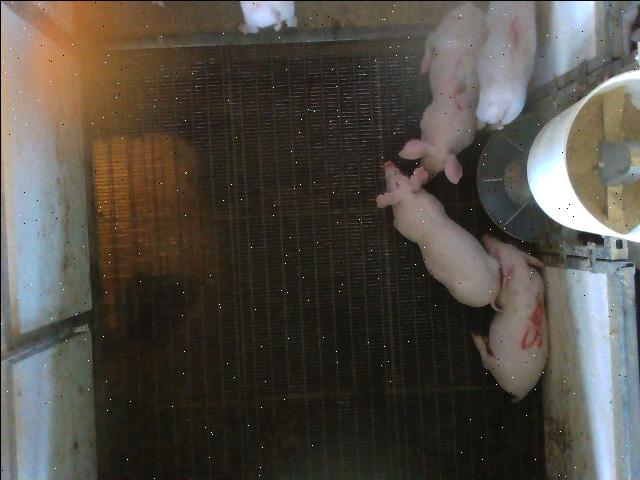pig-1: (475, 1, 535, 129)
pig-3: (398, 1, 485, 181)
pig-5: (471, 234, 548, 401)
